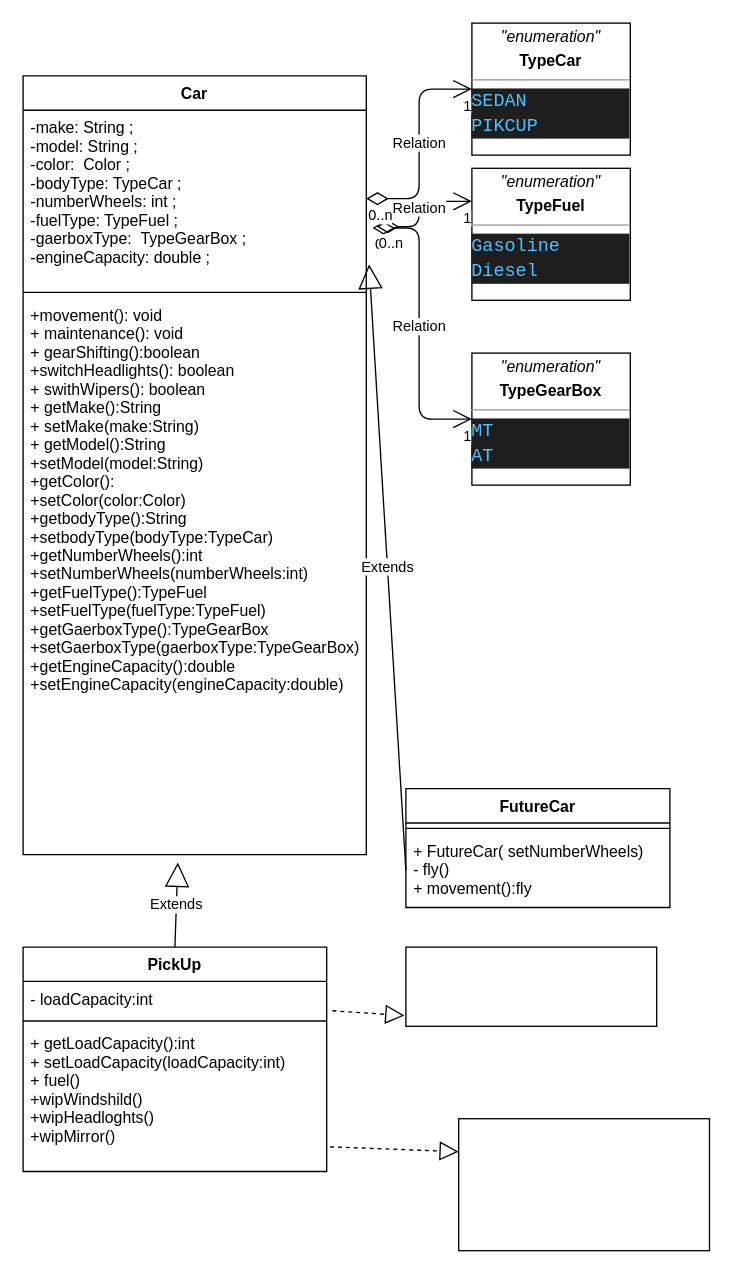
Image size: 733x1274. Some labels were removed from this diagram. Each missing label, with the centre of its shape:
<<Interface>> Refueling + fuel(): pixel 531 986
<<Interface>> Wiping + wipWipingshield() +wipHeadlights() + wipMirror(): pixel 583 1184
